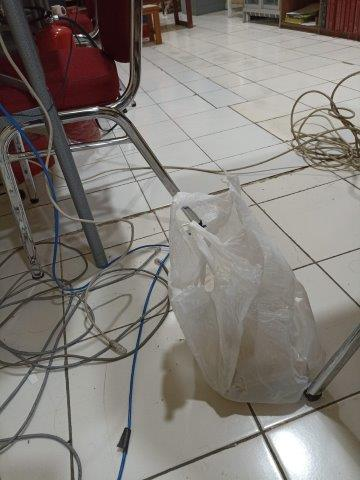plastik: (169, 179, 319, 400)
